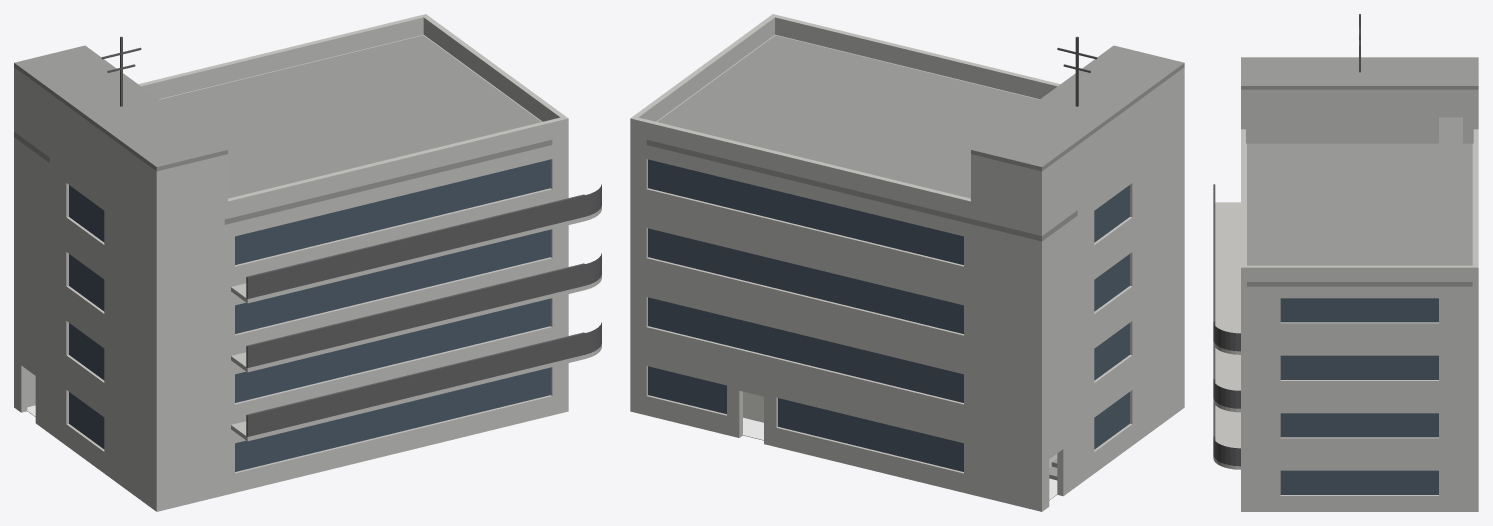
File: apartment.int-v1.lod0.glb
3 views of the same model, side by side, from view 1: azimuth 30°, elevation 25°; view 2: azimuth 150°, elevation 25°; view 3: azimuth 270°, elevation 25° (orthographic). The views are drawn at different scales.
Visible parts, largest first — view 1: apartment; view 2: apartment; view 3: apartment.
Part boxes in pixels (<box>): apartment: <box>14,14,601,511</box>; apartment: <box>630,14,1184,511</box>; apartment: <box>1213,14,1478,511</box>.
Size of the model in its own units: 21.4 by 19.2 by 13.4.
